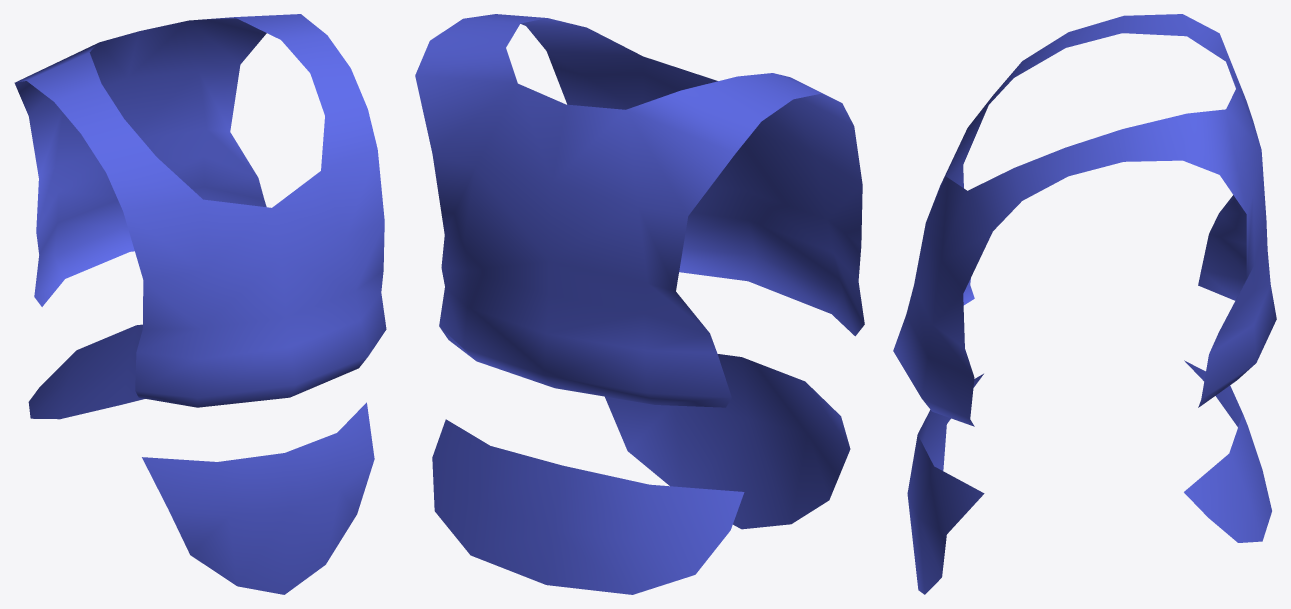
Rendered from tabardBase1_low.fbx.
3 views of the same model, side by side, from view 1: azimuth 30°, elevation 25°; view 2: azimuth 150°, elevation 25°; view 3: azimuth 270°, elevation 25° (orthographic). The views are drawn at different scales.
Visible parts, largest first — view 1: tabard_low; view 2: tabard_low; view 3: tabard_low.
Part boxes in pixels (x1,y1,x2,y2): tabard_low: (14,14,386,594); tabard_low: (415,14,864,594); tabard_low: (893,14,1276,594).
Bounding box in the file's own units: 78.94 × 129 × 87.31.
